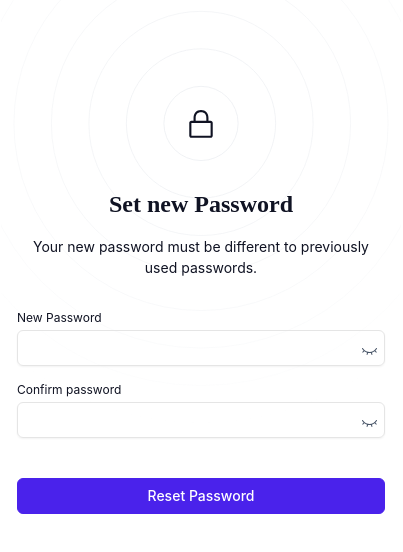
it: New password page › should show required error when confirm password is left blank
The width and height of the screenshot is (403, 552).
Type "@Vobb123" into the 1st password field named "newPassword" at x=201, y=348, box [17,330,385,366]
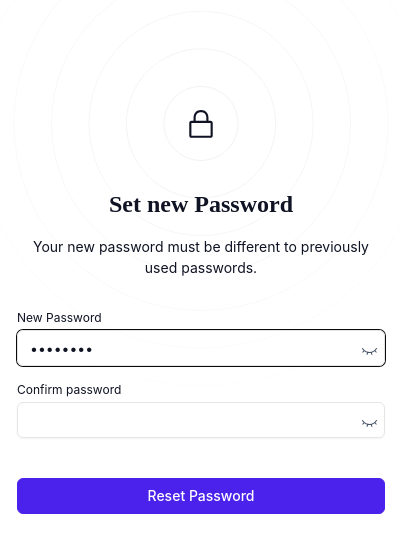
Click the button with test id "reset-btn" at x=201, y=496, box [17,478,385,514]
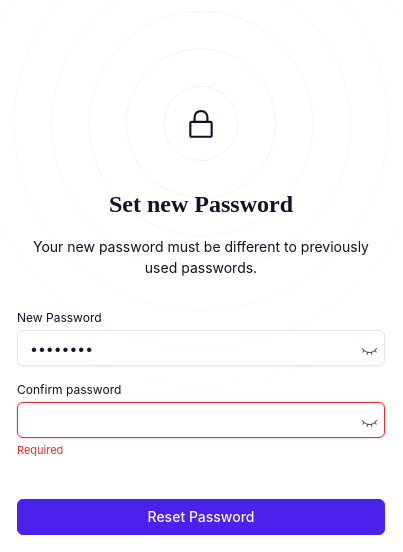
Check: the text "Required" is shown, box [17,443,63,457]
